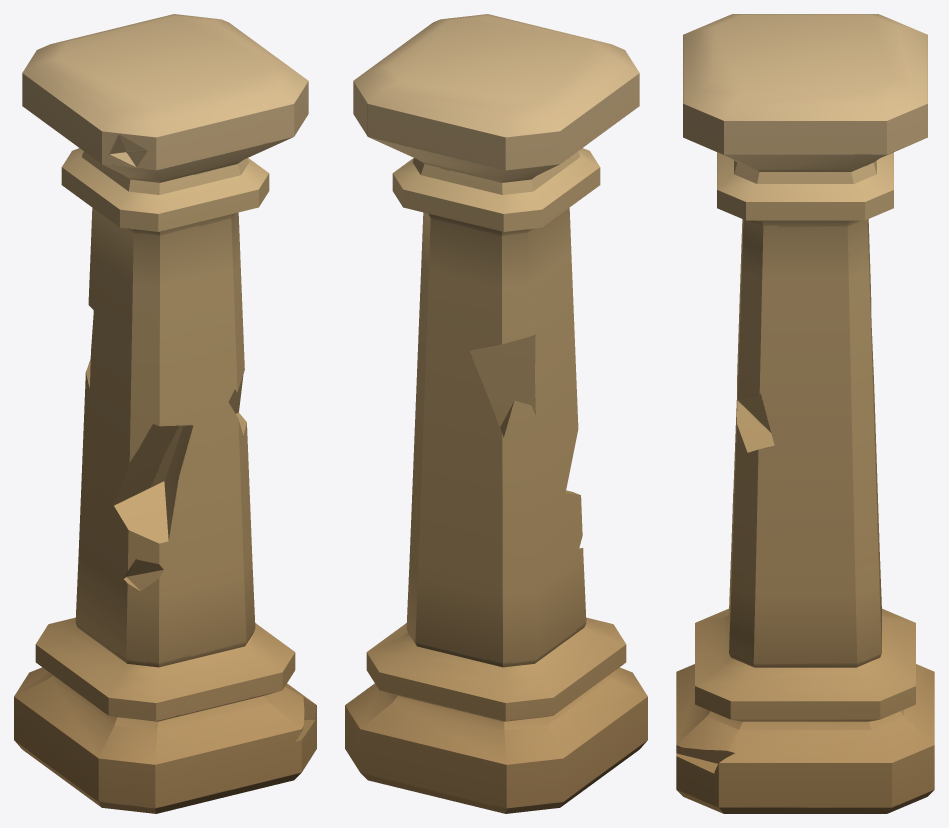
File: Columna.glb
3 views of the same model, side by side, from view 1: azimuth 30°, elevation 25°; view 2: azimuth 150°, elevation 25°; view 3: azimuth 270°, elevation 25° (orthographic). The views are drawn at different scales.
Visible parts, largest first — view 1: Pillar_Standing; view 2: Pillar_Standing; view 3: Pillar_Standing.
Boxes of the visible parts, box(x1,y1,x2,y2) form: Pillar_Standing: box(14, 14, 316, 813); Pillar_Standing: box(345, 14, 647, 813); Pillar_Standing: box(676, 14, 934, 813).
Size of the model in its own units: 1.52 by 4.6 by 1.52.
Materials: 1 (1 with a texture image).
